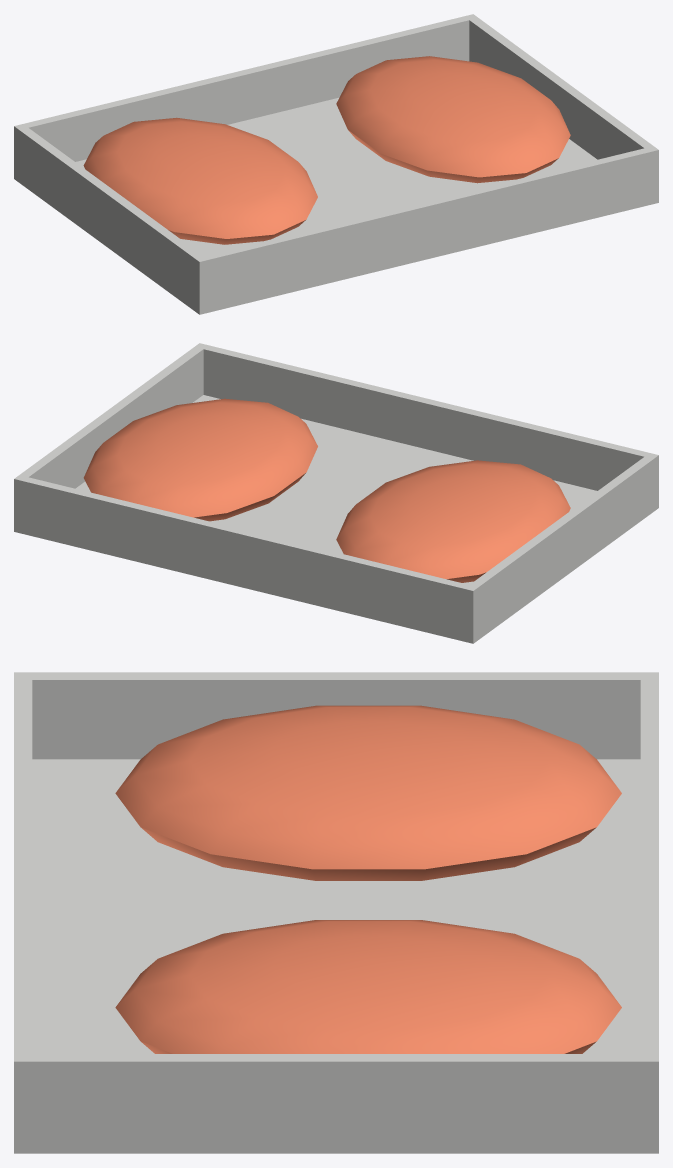
The model's file is Salmon.fbx.
The picture shows the model from 3 angles, top to bottom: view 1: azimuth 30°, elevation 25°; view 2: azimuth 150°, elevation 25°; view 3: azimuth 270°, elevation 25°; orthographic projection. The views are drawn at different scales.
Visible parts, largest first — view 1: Salmon; view 2: Salmon; view 3: Salmon.
Part boxes in pixels (bbox=[...]): Salmon: bbox=[14, 14, 658, 314]; Salmon: bbox=[14, 343, 658, 643]; Salmon: bbox=[14, 672, 658, 1153].
Bounding box in the file's own units: 0.2 × 0.025 × 0.14.
